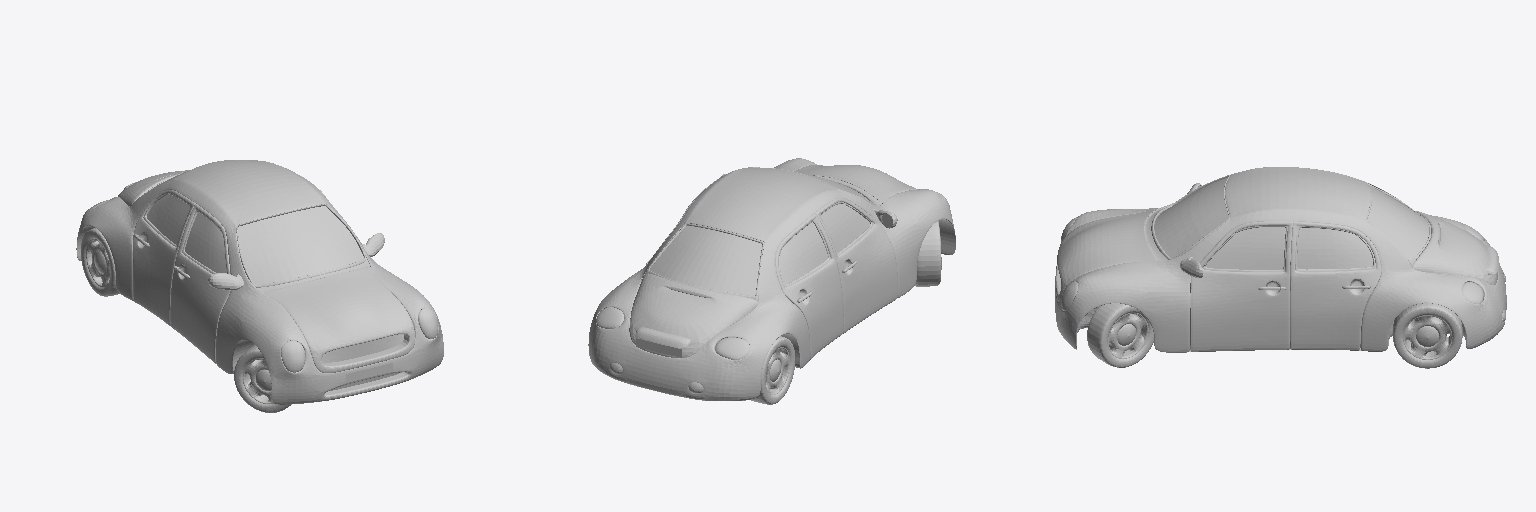
Rendered from car1.obj.
3 views of the same model, side by side, from view 1: azimuth 30°, elevation 25°; view 2: azimuth 150°, elevation 25°; view 3: azimuth 270°, elevation 25° (orthographic).
Visible parts, largest first — view 1: Sedan02_body, Sedan02_hood, Sedan02_windshield, Sedan02_door_FR, Sedan02_door_RR, Sedan02_tire_FR, Sedan02_RR_Sedan02_tire_RR, Sedan02_headlights, Sedan02_mirrors, Sedan02_windgasket, Sedan02_trunk; view 2: Sedan02_body, Sedan02_trunk, Sedan02_door_FR, Sedan02_door_RR, Sedan02_rear_window, Sedan02_hood, Sedan02_RR_Sedan02_tire_RR, Sedan02_tire_FR, Sedan02_taillights, Sedan02_bottom, Sedan02_reargasket; view 3: Sedan02_body, Sedan02_door_FL, Sedan02_door_RL, Sedan02_hood, Sedan02_RL_Sedan02_tire_RL, Sedan02_trunk, Sedan02_tire_FL, Sedan02_windshield, Sedan02_rear_window.
Part boxes in pixels (x1,y1,x2,y2): Sedan02_body: (76,160,443,404); Sedan02_hood: (264,267,414,372); Sedan02_windshield: (238,206,363,284); Sedan02_door_FR: (170,204,230,363); Sedan02_door_RR: (133,190,195,325); Sedan02_tire_FR: (234,345,290,412); Sedan02_RR_Sedan02_tire_RR: (81,228,119,296); Sedan02_headlights: (281,308,437,372); Sedan02_mirrors: (208,233,384,289); Sedan02_windgasket: (236,204,365,287); Sedan02_trunk: (118,170,189,206); Sedan02_body: (588,158,955,400); Sedan02_trunk: (629,273,758,357); Sedan02_door_FR: (815,198,897,333); Sedan02_door_RR: (775,213,843,359); Sedan02_rear_window: (650,226,761,295); Sedan02_hood: (794,165,916,203); Sedan02_RR_Sedan02_tire_RR: (751,336,794,404); Sedan02_tire_FR: (915,221,941,286); Sedan02_taillights: (596,307,749,359); Sedan02_bottom: (781,219,955,367); Sedan02_reargasket: (645,223,764,301); Sedan02_body: (1055,167,1506,352); Sedan02_door_FL: (1190,221,1292,351); Sedan02_door_RL: (1290,221,1381,350); Sedan02_hood: (1055,209,1157,301); Sedan02_RL_Sedan02_tire_RL: (1393,303,1462,368); Sedan02_trunk: (1413,211,1498,284); Sedan02_tire_FL: (1087,303,1153,367); Sedan02_windshield: (1154,178,1228,258); Sedan02_rear_window: (1367,186,1428,260).
Size of the model in its own units: 14.35 by 10.22 by 28.94.